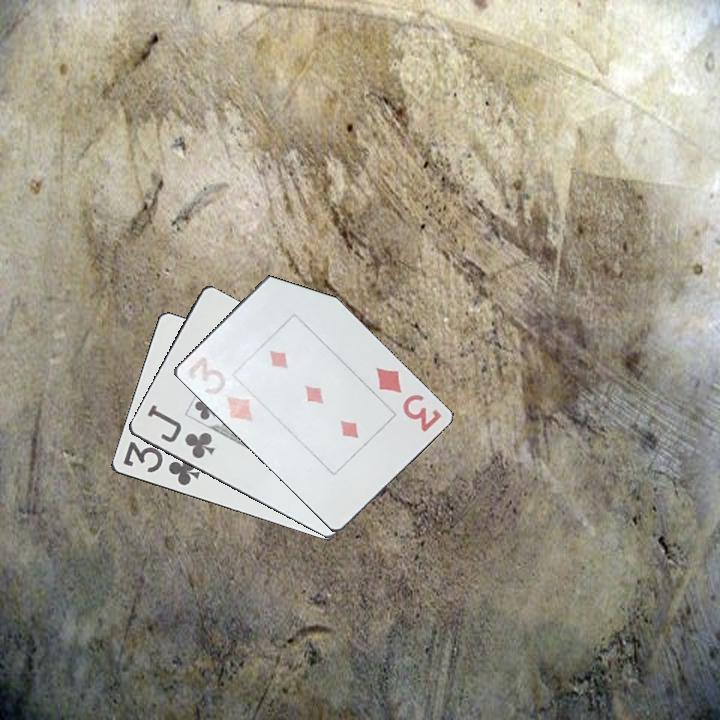3c: (119, 438, 203, 489)
3d: (183, 348, 255, 425), (372, 364, 444, 435)
Jc: (143, 401, 218, 462)
